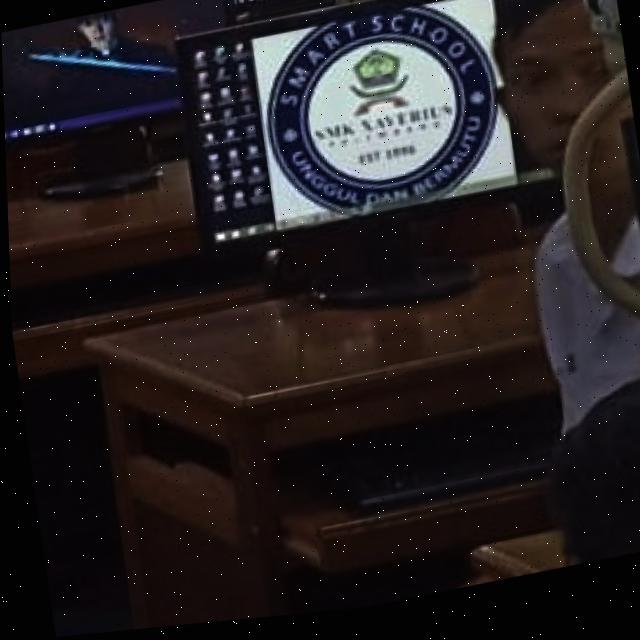onscreen: (177, 0, 495, 243), (1, 0, 223, 131)
